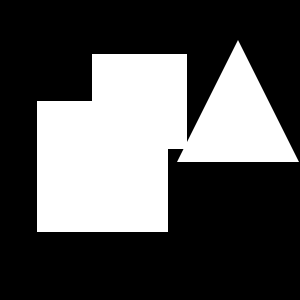circle: (37, 101, 168, 232), (92, 54, 187, 149)
triangle: (177, 40, 299, 162)
